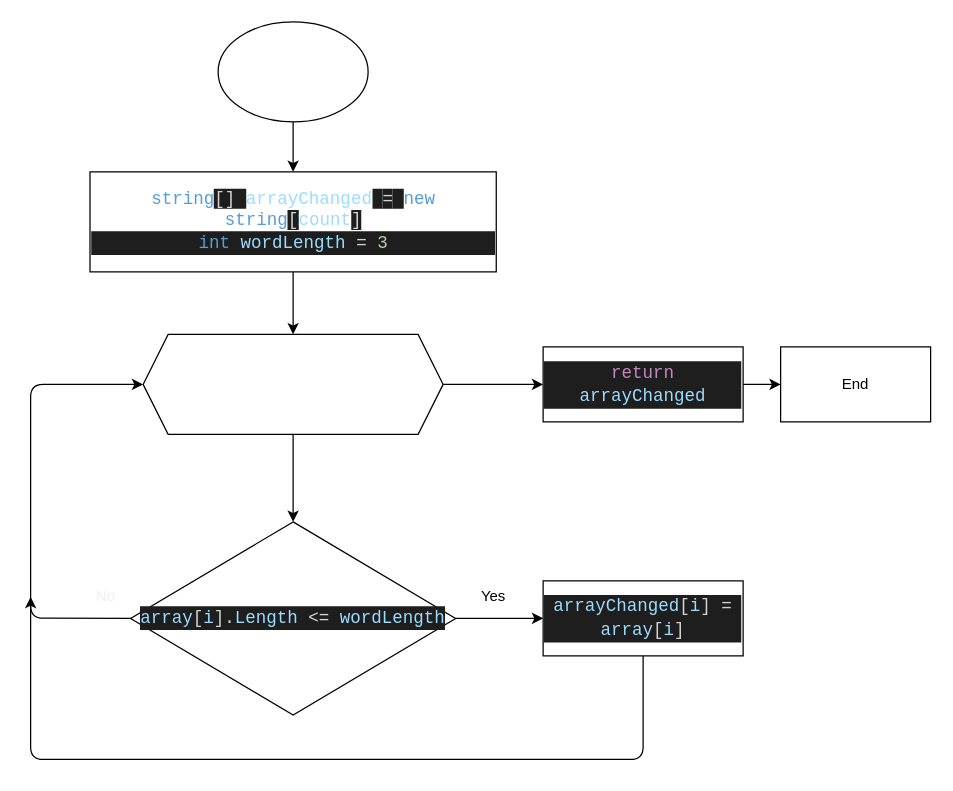
Some shapes in this 953 by 791 pixel diagram are drawn without their labels. Each missing label, with the centre of its shape:
"i = 0 ; i < array . Length ; i ++" belongs at point (292, 383).
"Start" belongs at point (292, 71).
